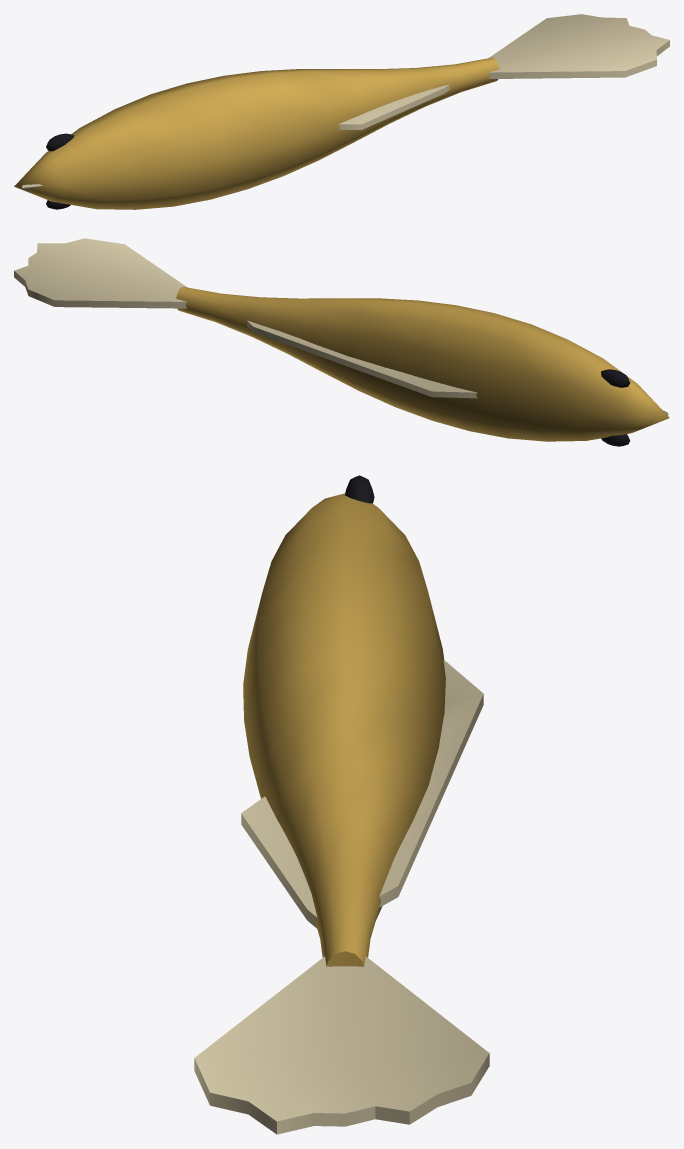
File: fogtail_carp_whole.glb
3 renders of one model, top to bottom at view 1: azimuth 30°, elevation 25°; view 2: azimuth 150°, elevation 25°; view 3: azimuth 270°, elevation 25°, orthographic. The views are drawn at different scales.
Parts seen in each view (by area): view 1: fogtail_carp_whole; view 2: fogtail_carp_whole; view 3: fogtail_carp_whole.
Boxes of the visible parts, x1,y1,x2,y2 form: fogtail_carp_whole: (14,14,669,209); fogtail_carp_whole: (14,238,669,446); fogtail_carp_whole: (194,475,489,1134).
Bounding box in the file's own units: 0.3 × 0.05 × 0.06.
